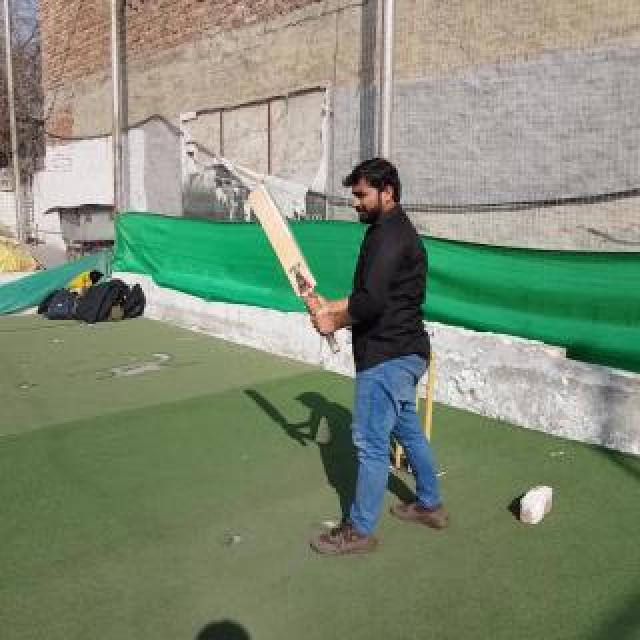bat: (247, 183, 341, 353)
